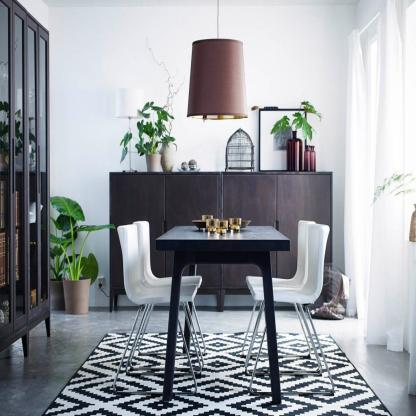Table: (153, 220, 293, 408)
